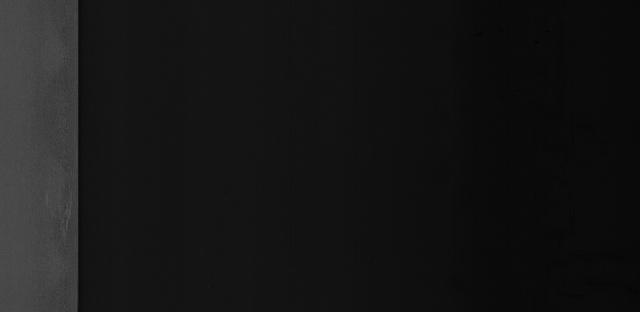silk_spot: (28, 51, 75, 281)
